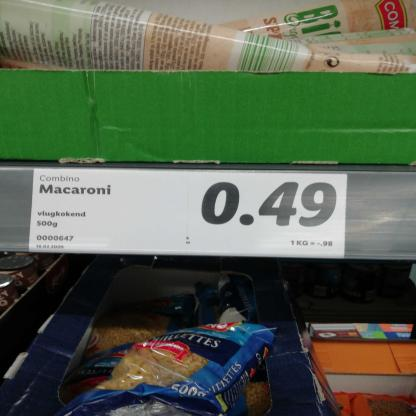prtg: (30, 169, 348, 259)
